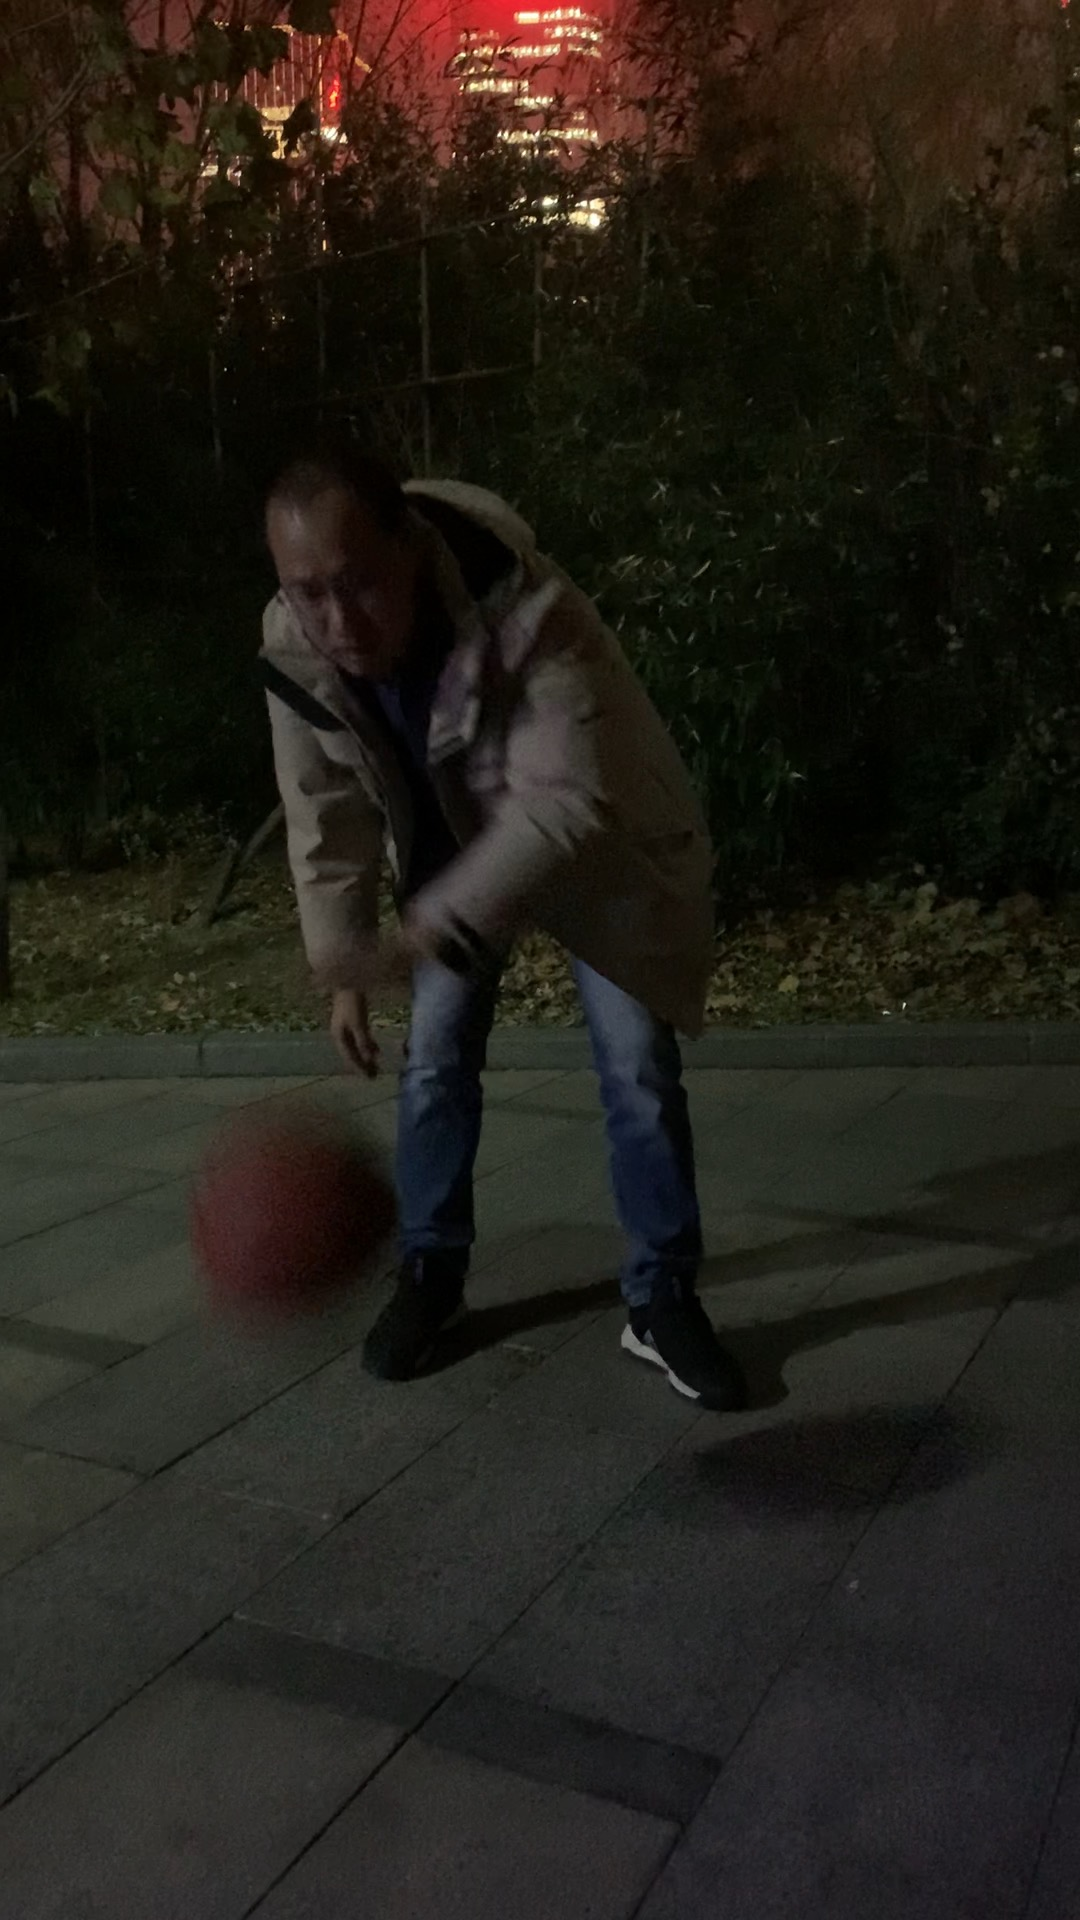ball: (193, 1106, 404, 1338)
